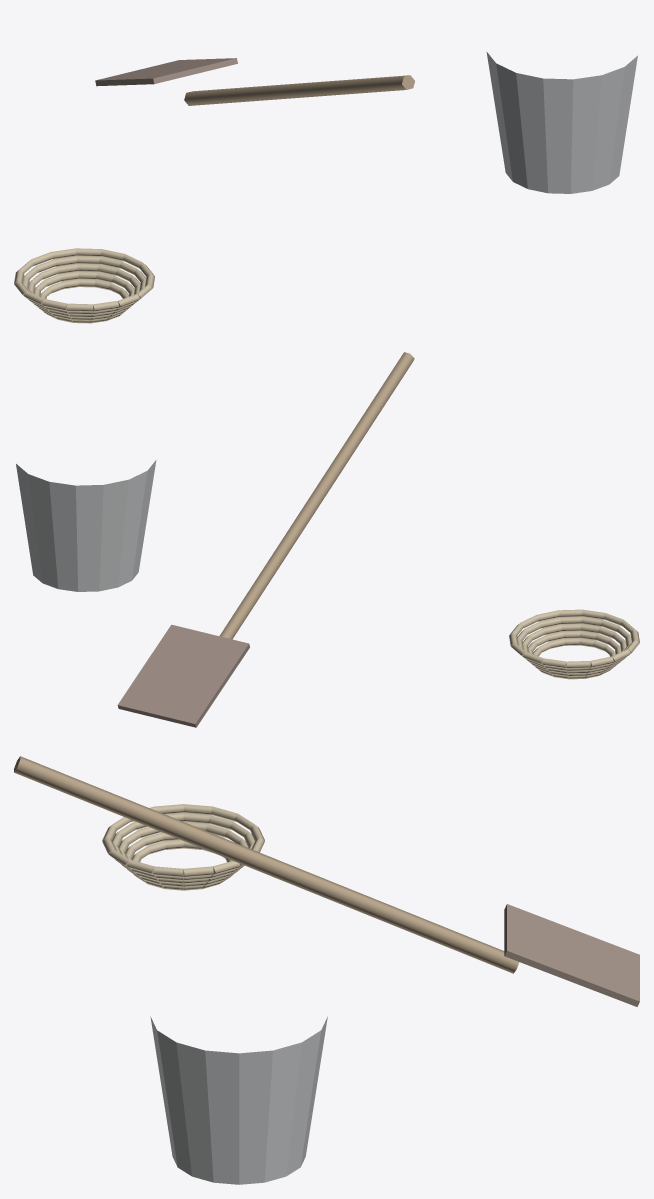
The model's file is cabin_yard_tools_a.glb.
The picture shows the model from 3 angles, top to bottom: view 1: azimuth 30°, elevation 25°; view 2: azimuth 150°, elevation 25°; view 3: azimuth 270°, elevation 25°; orthographic projection. The views are drawn at different scales.
Parts seen in each view (by area): view 1: body; view 2: body; view 3: body.
Boxes of the visible parts, x1,y1,x2,y2 form: body: (14,52,637,323); body: (16,352,639,727); body: (14,756,639,1184).
Size of the model in its own units: 1.51 by 0.5127 by 1.13.
